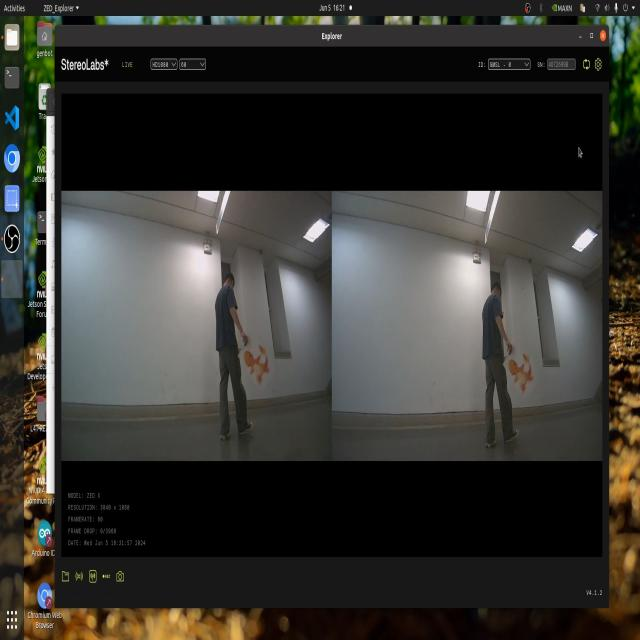red: (507, 353, 537, 390), (246, 342, 276, 377)
